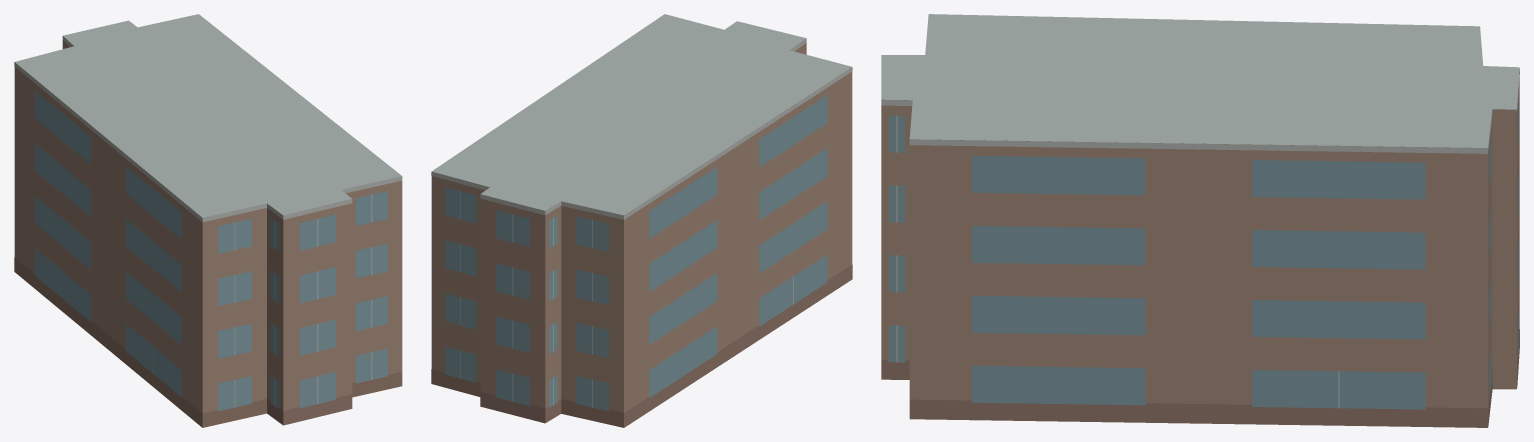
File: survey-upis-32912968.glb
The picture shows the model from 3 angles, left to right: view 1: azimuth 30°, elevation 25°; view 2: azimuth 150°, elevation 25°; view 3: azimuth 270°, elevation 25°; orthographic projection. The views are drawn at different scales.
Parts seen in each view (by area): view 1: survey-upis-32912968.tmp; view 2: survey-upis-32912968.tmp; view 3: survey-upis-32912968.tmp.
Part boxes in pixels (box(x1,y1,x2,y2)): survey-upis-32912968.tmp: box(14, 14, 402, 427); survey-upis-32912968.tmp: box(431, 14, 852, 427); survey-upis-32912968.tmp: box(881, 14, 1519, 427).
Size of the model in its own units: 11.98 by 11.65 by 24.1.
